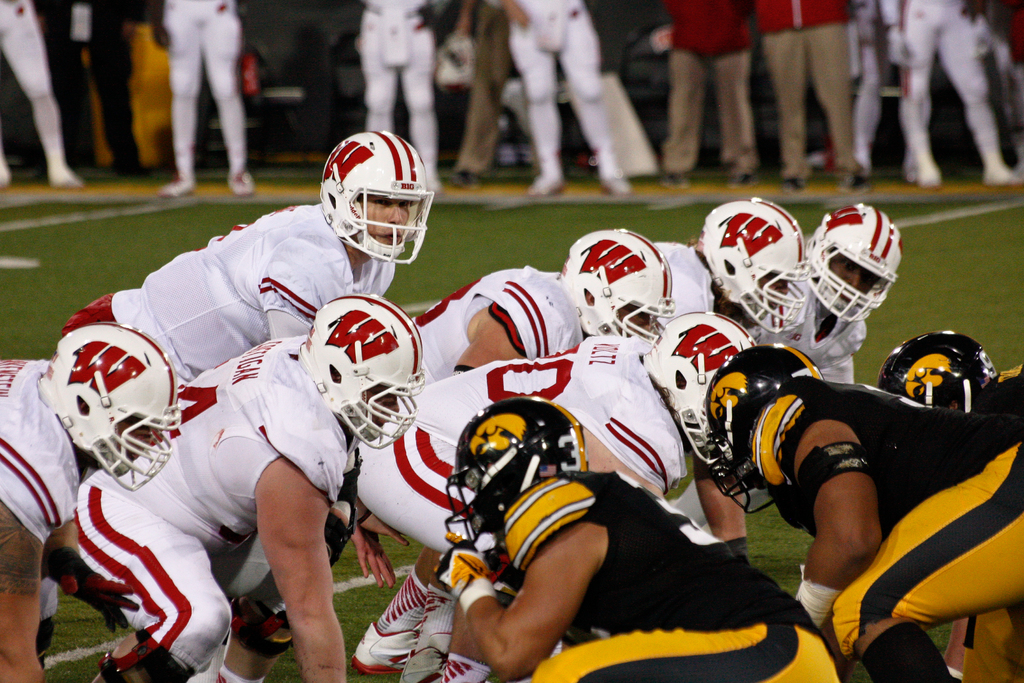Footwear: (355, 575, 457, 673), (397, 652, 487, 682), (220, 169, 255, 197), (45, 158, 82, 184), (727, 168, 762, 193), (596, 174, 634, 197), (447, 167, 481, 192), (987, 156, 1018, 183), (159, 177, 196, 197), (845, 172, 877, 195), (528, 176, 562, 194), (922, 155, 940, 186), (669, 171, 692, 194), (782, 176, 802, 195)
